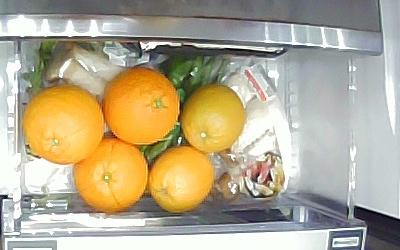orange: (21, 85, 104, 165), (103, 68, 180, 146), (72, 139, 148, 214), (180, 83, 246, 154), (150, 145, 215, 214)
